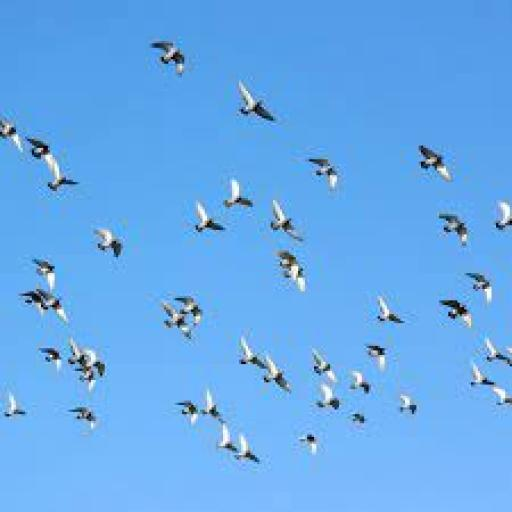birds: (230, 78, 280, 123), (151, 35, 196, 84), (420, 137, 458, 182), (187, 197, 226, 240), (218, 168, 255, 211), (434, 207, 475, 245), (459, 264, 500, 302), (24, 250, 65, 287), (90, 221, 126, 262), (305, 151, 342, 188), (267, 206, 305, 242), (372, 292, 407, 331), (278, 255, 313, 291), (442, 289, 472, 329), (0, 112, 30, 150), (65, 401, 103, 429), (44, 162, 75, 195), (261, 358, 291, 392), (388, 392, 420, 420), (41, 290, 70, 320), (294, 428, 324, 457), (363, 337, 392, 367), (491, 198, 512, 239), (477, 333, 505, 363), (159, 305, 186, 335), (179, 292, 206, 322), (196, 385, 223, 415), (177, 398, 204, 428), (344, 368, 372, 395), (314, 385, 343, 411), (308, 348, 335, 375), (0, 399, 30, 423), (87, 345, 110, 375), (22, 138, 58, 156), (463, 367, 490, 390), (493, 380, 512, 412), (238, 343, 261, 368), (348, 409, 371, 434), (213, 429, 235, 453), (238, 439, 259, 464), (43, 346, 64, 369), (19, 283, 38, 307), (67, 340, 83, 366), (74, 374, 99, 387)
